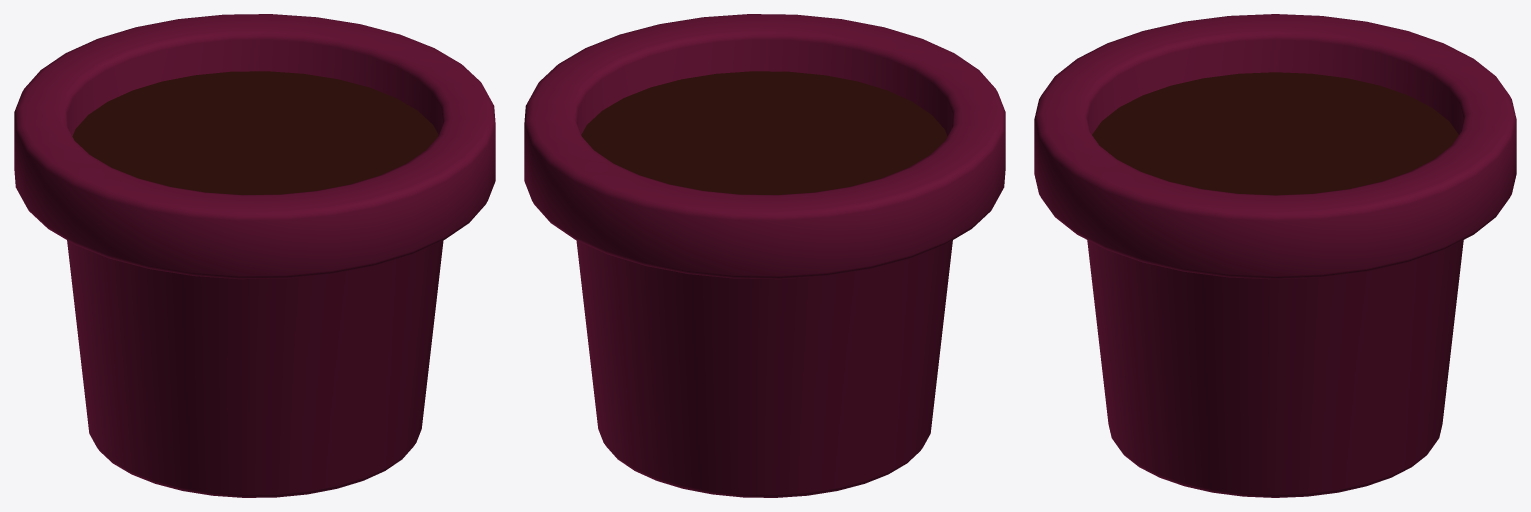
The model's file is 12gltf.gltf.
The picture shows the model from 3 angles, left to right: view 1: azimuth 30°, elevation 25°; view 2: azimuth 150°, elevation 25°; view 3: azimuth 270°, elevation 25°; orthographic projection.
Visible parts, largest first — view 1: pot; view 2: pot; view 3: pot.
Part boxes in pixels (left/top/right/bottom): pot: left=14, top=14, right=495, bottom=497; pot: left=524, top=14, right=1005, bottom=497; pot: left=1034, top=14, right=1516, bottom=497.
Size of the model in its own units: 290 by 211 by 290.
